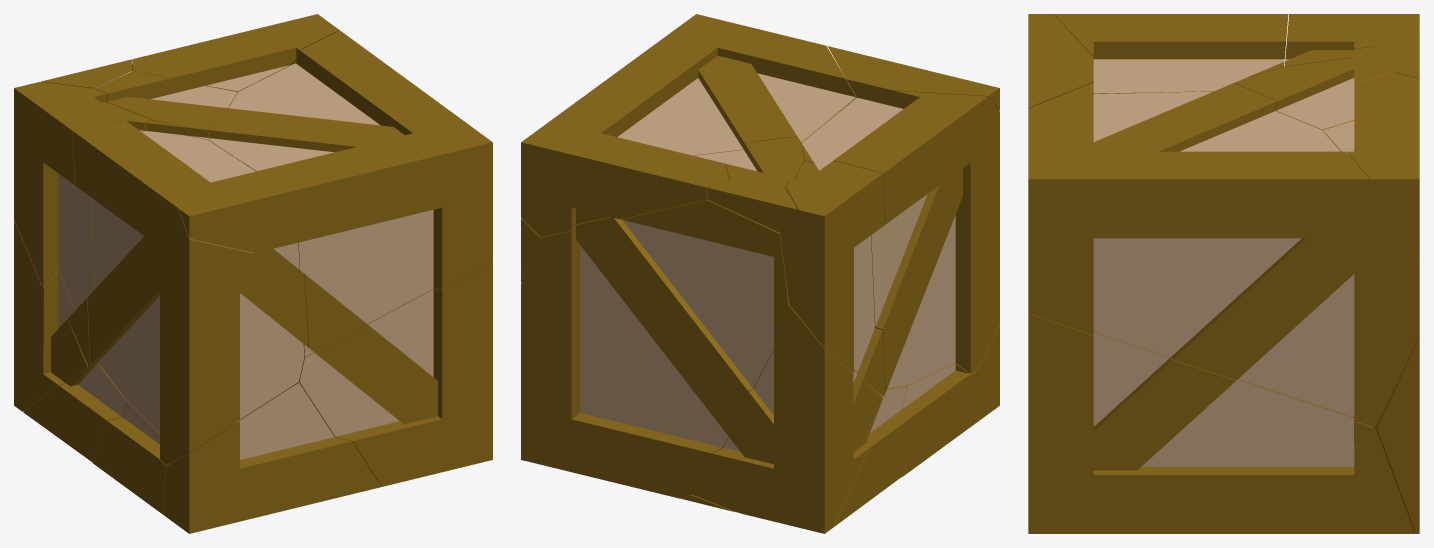
The model's file is crate_broken.fbx.
3 views of the same model, side by side, from view 1: azimuth 30°, elevation 25°; view 2: azimuth 150°, elevation 25°; view 3: azimuth 270°, elevation 25° (orthographic). The views are drawn at different scales.
Parts seen in each view (by area): view 1: Cube_cell.009, Cube_cell.006, Cube_cell.011, Cube_cell.004, Cube_cell, Cube_cell.008, Cube_cell.001, Cube_cell.007, Cube_cell.005, Cube_cell.002, Cube_cell.010, Cube_cell.003; view 2: Cube_cell.002, Cube_cell.009, Cube_cell.006, Cube_cell.001, Cube_cell, Cube_cell.007, Cube_cell.010, Cube_cell.005, Cube_cell.008, Cube_cell.003, Cube_cell.004; view 3: Cube_cell.006, Cube_cell.011, Cube_cell.009, Cube_cell.002, Cube_cell.007, Cube_cell, Cube_cell.008, Cube_cell.003.
Boxes of the visible parts, x1,y1,x2,y2 form: Cube_cell.009: (73,119,308,465); Cube_cell.006: (208,30,492,357); Cube_cell.011: (290,263,492,486); Cube_cell.004: (162,383,381,533); Cube_cell: (14,82,153,366); Cube_cell.008: (178,164,361,252); Cube_cell.001: (14,220,88,411); Cube_cell.007: (132,14,339,91); Cube_cell.005: (23,363,127,461); Cube_cell.002: (94,71,237,140); Cube_cell.010: (92,388,288,513); Cube_cell.003: (41,59,131,88); Cube_cell.002: (521,136,804,498); Cube_cell.009: (802,90,999,392); Cube_cell.006: (521,14,856,282); Cube_cell.001: (691,306,882,533); Cube_cell: (780,160,885,396); Cube_cell.007: (521,126,729,237); Cube_cell.010: (902,363,976,476); Cube_cell.005: (681,385,917,527); Cube_cell.008: (827,46,999,110); Cube_cell.003: (707,182,797,232); Cube_cell.004: (973,325,999,424); Cube_cell.006: (1028,82,1419,427); Cube_cell.011: (1028,314,1414,533); Cube_cell.009: (1053,14,1288,93); Cube_cell.002: (1234,46,1419,533); Cube_cell.007: (1323,72,1419,263); Cube_cell: (1284,14,1419,66); Cube_cell.008: (1028,14,1093,108); Cube_cell.003: (1375,28,1419,78).
Size of the model in its own units: 100 by 100 by 100.
